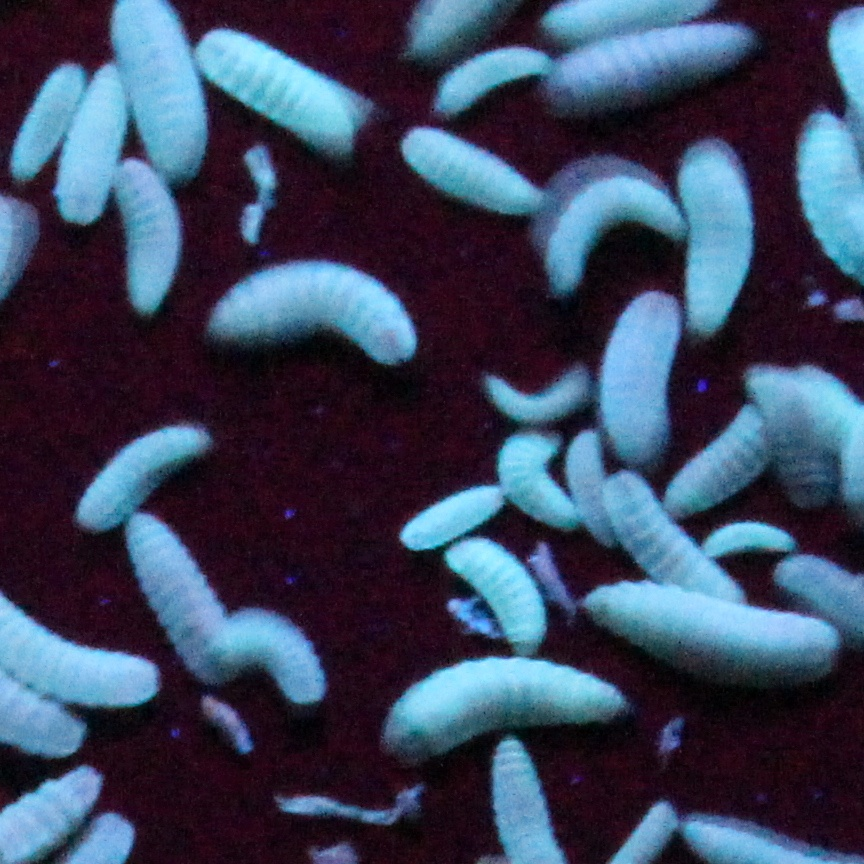larve: (588, 586, 837, 686), (211, 262, 420, 373), (195, 19, 368, 146), (389, 665, 644, 746), (540, 159, 673, 297), (126, 514, 224, 680), (76, 419, 219, 528), (552, 28, 745, 108), (681, 131, 752, 338), (627, 481, 745, 605), (750, 368, 834, 512), (211, 611, 333, 708), (402, 126, 534, 214), (57, 59, 128, 222), (450, 540, 544, 658), (604, 304, 673, 463), (662, 404, 767, 508), (110, 160, 176, 314), (10, 57, 82, 183), (499, 433, 565, 535), (435, 59, 548, 114), (478, 368, 589, 422), (573, 431, 621, 548), (703, 528, 806, 551)
